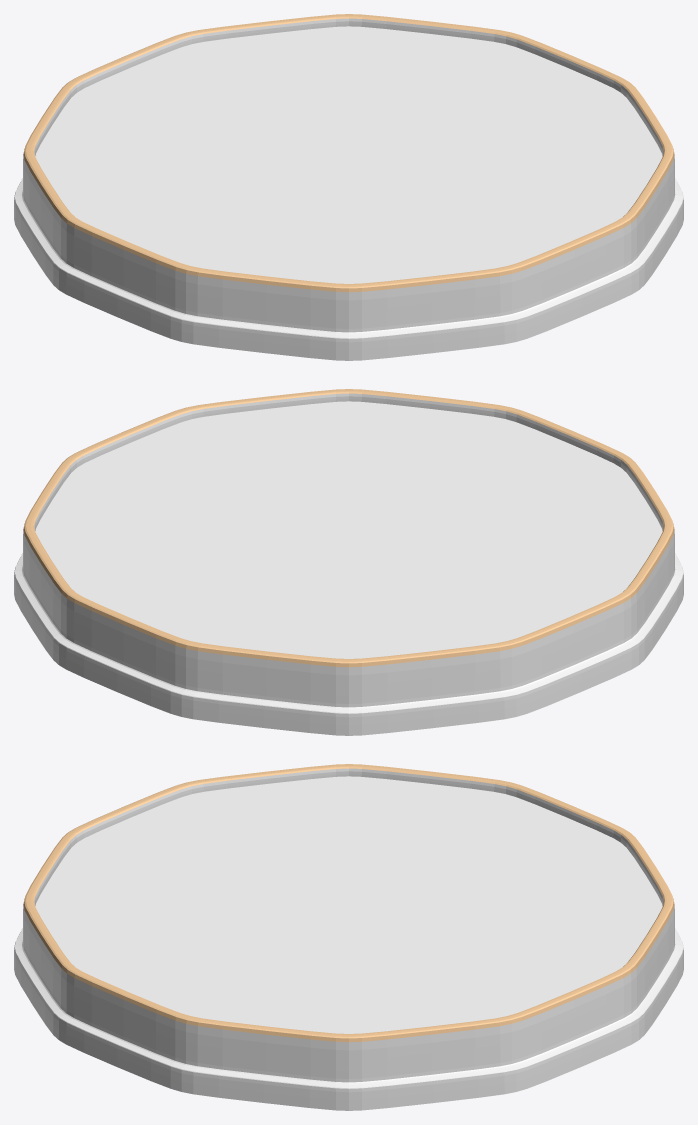
Rendered from fountain.glb.
3 views of the same model, one above another, from view 1: azimuth 30°, elevation 25°; view 2: azimuth 150°, elevation 25°; view 3: azimuth 270°, elevation 25° (orthographic).
Visible parts, largest first — view 1: Cylinder; view 2: Cylinder; view 3: Cylinder.
Boxes of the visible parts, x1,y1,x2,y2 form: Cylinder: [14, 14, 683, 360]; Cylinder: [14, 389, 683, 735]; Cylinder: [14, 764, 683, 1110].
Bounding box in the file's own units: 16.02 × 1.82 × 16.02.
